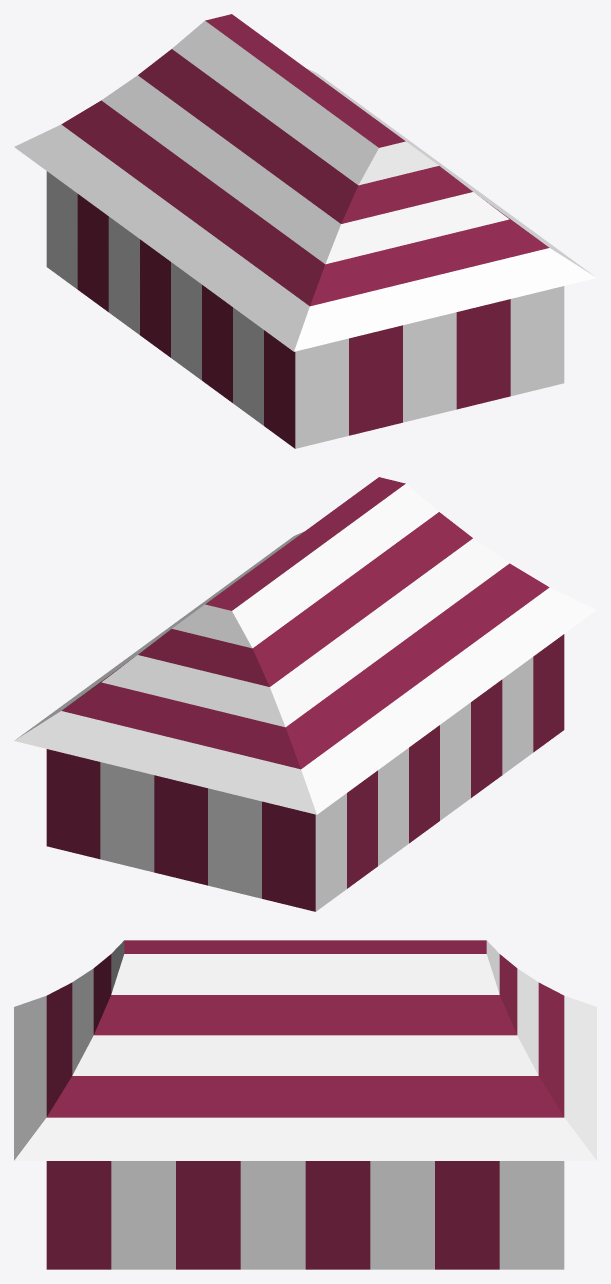
The model's file is Tent02.fbx.
3 renders of one model, top to bottom at view 1: azimuth 30°, elevation 25°; view 2: azimuth 150°, elevation 25°; view 3: azimuth 270°, elevation 25°, orthographic. The views are drawn at different scales.
Visible parts, largest first — view 1: Tent02; view 2: Tent02; view 3: Tent02.
Part boxes in pixels (x1,y1,x2,y2): Tent02: (14, 14, 596, 448); Tent02: (14, 477, 596, 911); Tent02: (14, 940, 596, 1269).
Size of the model in its own units: 574 by 442 by 919.
